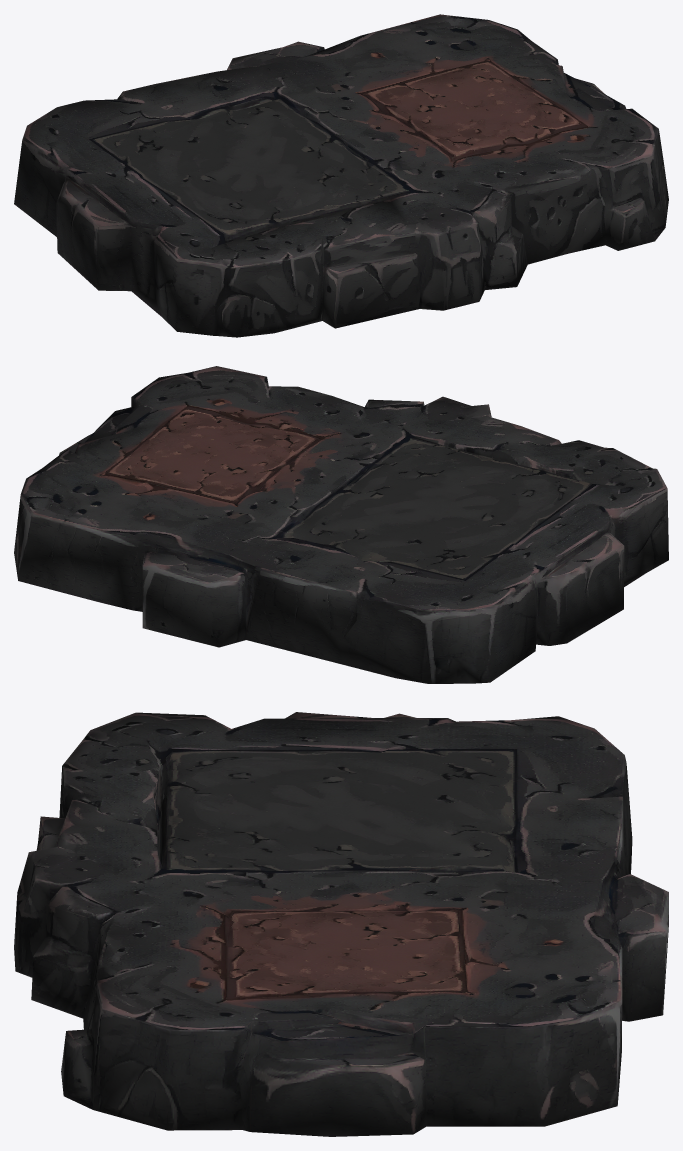
The model's file is groundcave.glb.
The picture shows the model from 3 angles, top to bottom: view 1: azimuth 30°, elevation 25°; view 2: azimuth 150°, elevation 25°; view 3: azimuth 270°, elevation 25°; orthographic projection. The views are drawn at different scales.
Parts seen in each view (by area): view 1: Mesh_0; view 2: Mesh_0; view 3: Mesh_0.
Boxes of the visible parts, x1=… form: Mesh_0: x1=14, y1=14, x2=668, y2=337; Mesh_0: x1=14, y1=366, x2=668, y2=683; Mesh_0: x1=14, y1=712, x2=668, y2=1136.
Size of the model in its own units: 1.91 by 0.253 by 1.54.
Materials: 1 (1 with a texture image).
